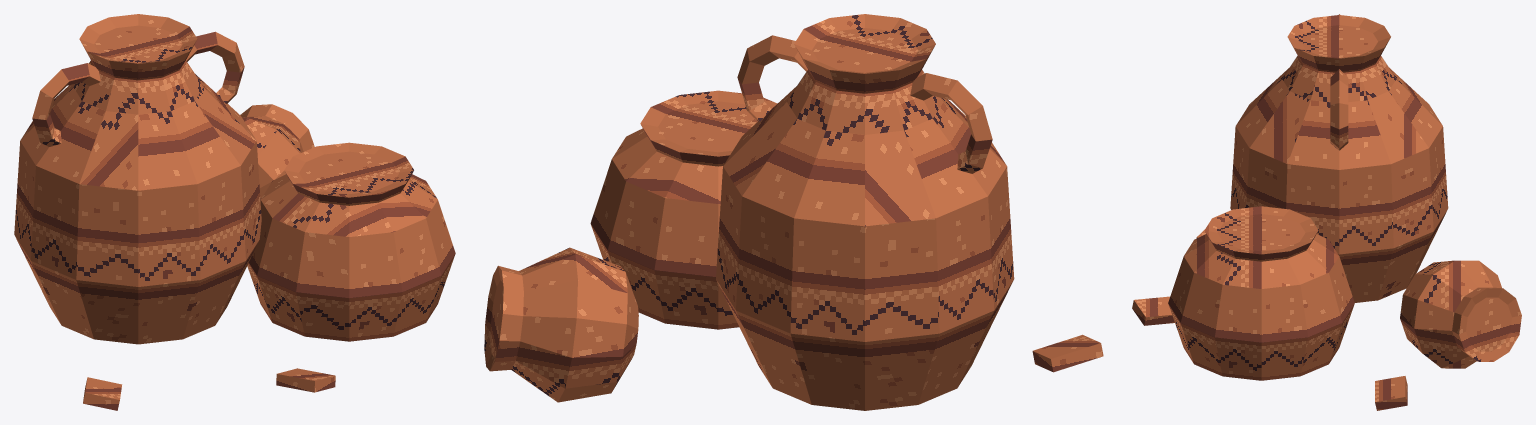
Rendered from ruins_pots.glb.
The picture shows the model from 3 angles, left to right: view 1: azimuth 30°, elevation 25°; view 2: azimuth 150°, elevation 25°; view 3: azimuth 270°, elevation 25°; orthographic projection. The views are drawn at different scales.
Visible parts, largest first — view 1: Pots; view 2: Pots; view 3: Pots.
Boxes of the visible parts, bbox=[...] form: Pots: bbox=[14, 14, 455, 410]; Pots: bbox=[484, 14, 1103, 410]; Pots: bbox=[1132, 14, 1521, 410].
Size of the model in its own units: 1.58 by 1.09 by 1.5.
Materials: 1 (1 with a texture image).
